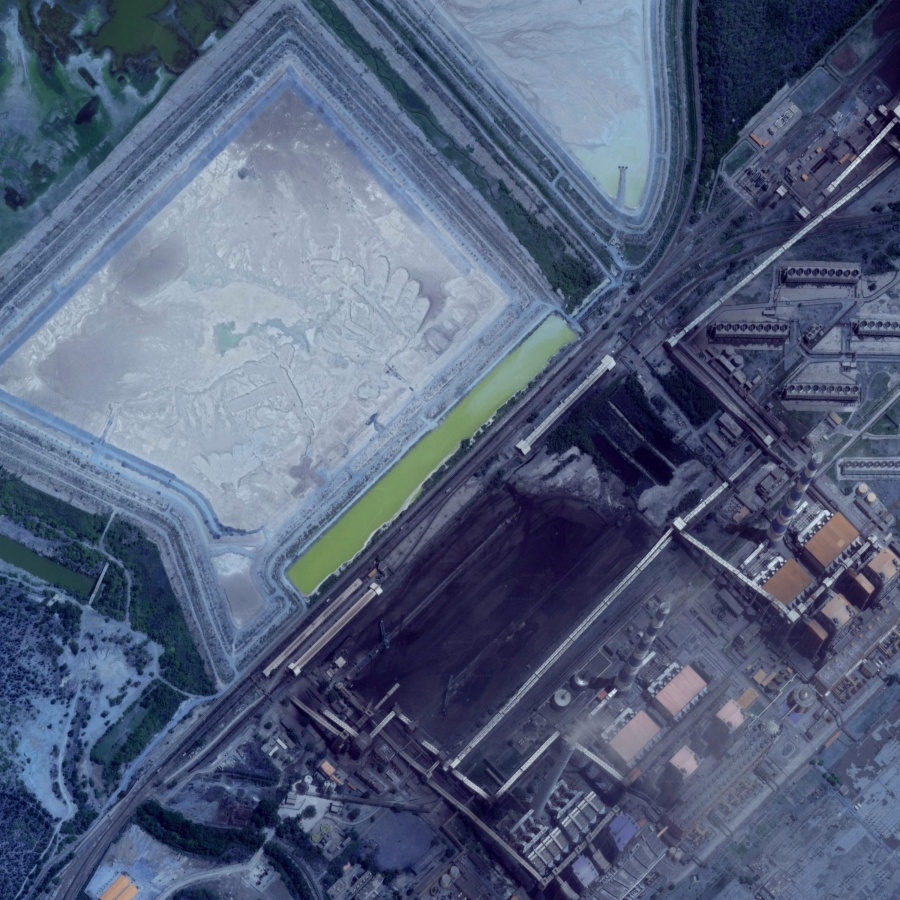PowerPlant: (275, 318, 800, 825)
